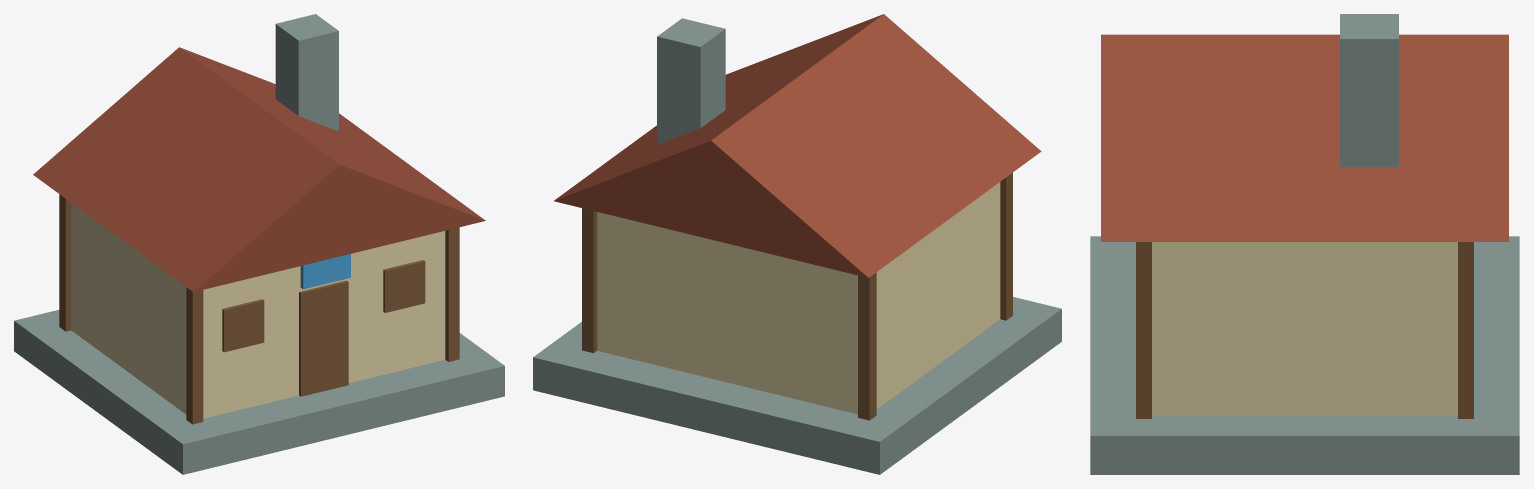
File: house.glb
The picture shows the model from 3 angles, left to right: view 1: azimuth 30°, elevation 25°; view 2: azimuth 150°, elevation 25°; view 3: azimuth 270°, elevation 25°; orthographic projection. The views are drawn at different scales.
Parts seen in each view (by area): view 1: Gabled roof.002, Plaster walls.002, Foundation.003, Chimney, Door.003, Corner timber.008, Corner timber.010, Window.004, Window.005, Corner timber.009, Player sign.002; view 2: Gabled roof.002, Plaster walls.002, Foundation.003, Chimney, Corner timber.009, Corner timber.011, Corner timber.008; view 3: Gabled roof.002, Plaster walls.002, Foundation.003, Chimney, Corner timber.010, Corner timber.011.
Part boxes in pixels (x1,y1,x2,y2): Gabled roof.002: (33,47,485,291); Plaster walls.002: (71,203,445,418); Foundation.003: (14,310,504,474); Chimney: (275,14,338,131); Door.003: (299,280,348,396); Corner timber.008: (186,287,203,424); Corner timber.010: (445,227,459,361); Window.004: (222,299,264,352); Window.005: (383,260,425,312); Corner timber.009: (59,194,71,331); Player sign.002: (300,254,350,289); Gabled roof.002: (554,14,1041,277); Plaster walls.002: (597,182,1000,414); Foundation.003: (533,297,1061,474); Chimney: (657,18,725,144); Corner timber.009: (858,272,876,420); Corner timber.011: (582,208,597,353); Corner timber.008: (1000,172,1012,320); Gabled roof.002: (1101,34,1508,241); Plaster walls.002: (1152,242,1457,415); Foundation.003: (1090,236,1519,474); Chimney: (1340,14,1398,166); Corner timber.010: (1136,242,1151,418); Corner timber.011: (1458,242,1473,418).
Size of the model in its own units: 4.4 by 4.05 by 4.
